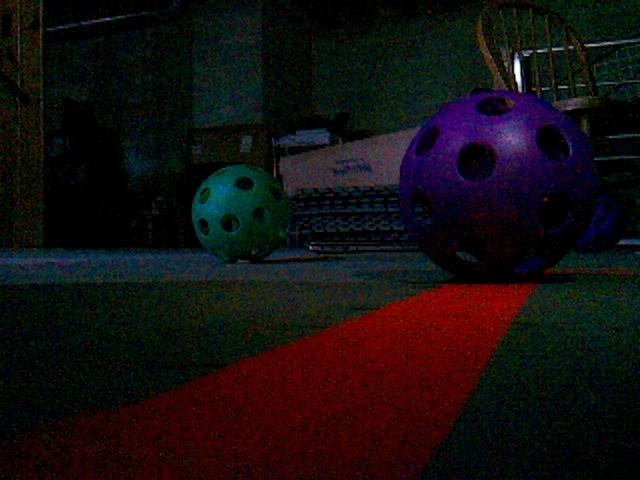Green: (188, 163, 292, 261)
Purple: (399, 92, 597, 278), (572, 193, 628, 252)
